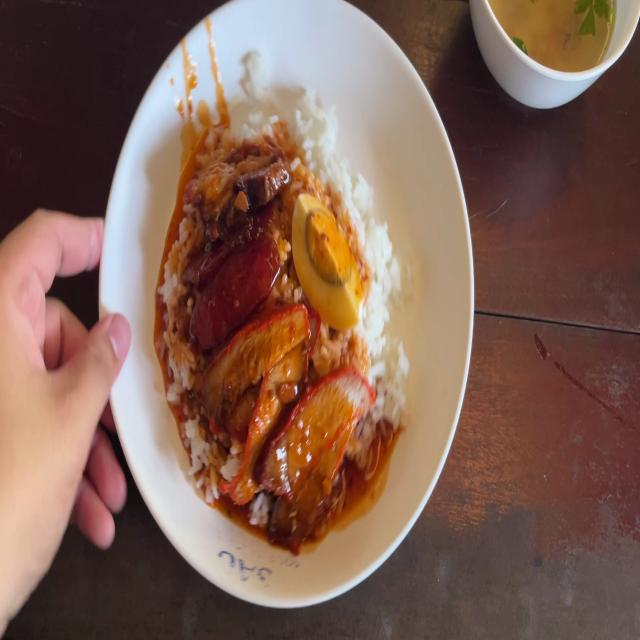red_pork_and_crispy_pork: (297, 205, 362, 322)
stir_fried_basil: (188, 223, 276, 339)
